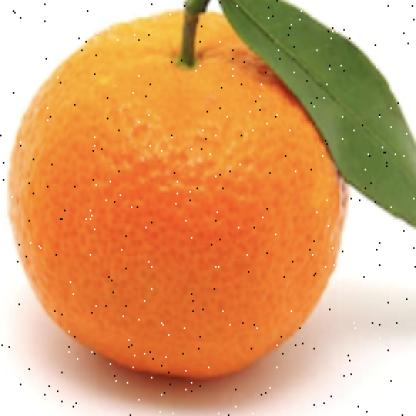fresh: (13, 9, 349, 387)
